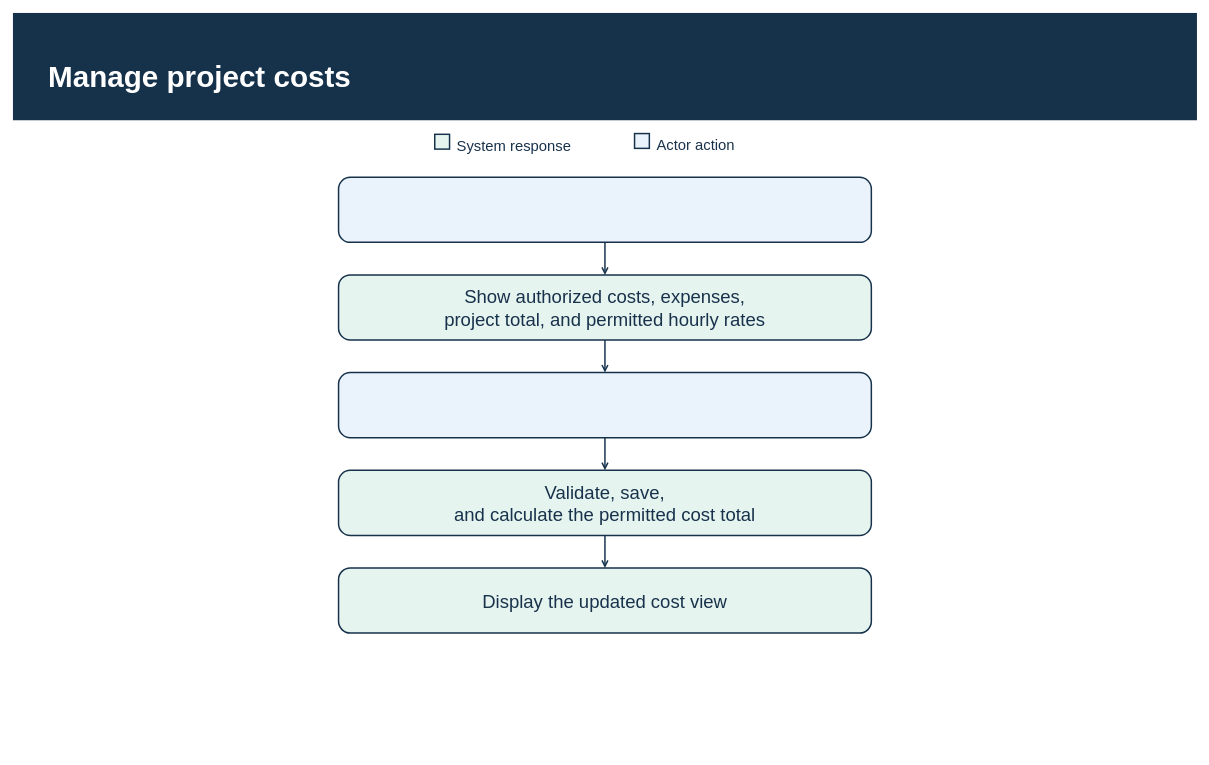
Image size: 1209x765. Some labels were removed from this diagram. The centre of each missing label's shape, as x and y in pixels:
Open a project's Costs view: point (604, 209)
Update bid, budget, and stage amounts; submit: point (604, 404)
